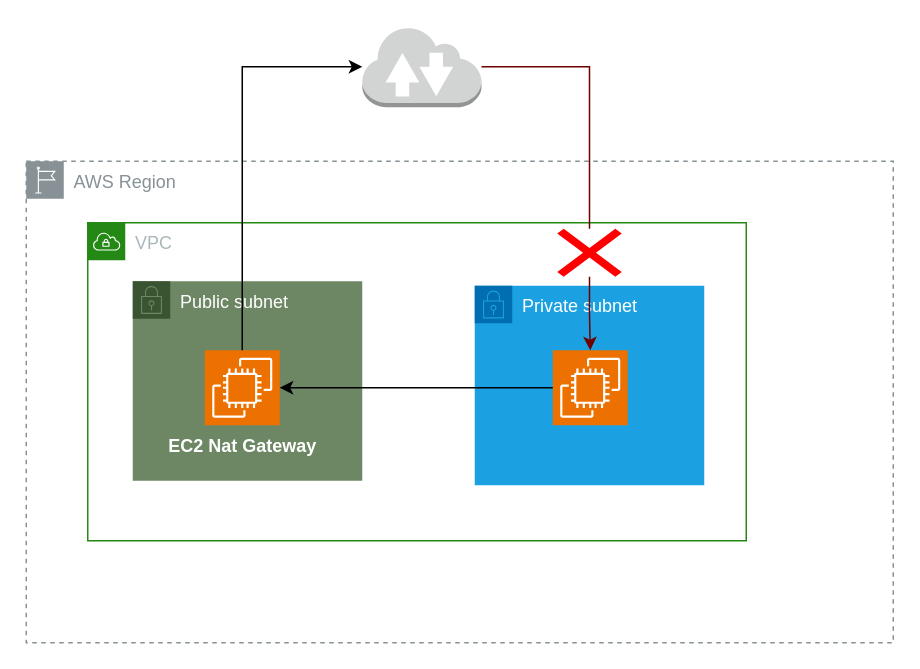
This 920x669 diagram has some shape labels left out. The shapes that lost their labels are listed below. From the top down, each one's box as (x1, y1, x2, y2) in pixels, then its label:
(361, 25, 482, 107): Internet
(551, 349, 628, 425): EC2 Private
